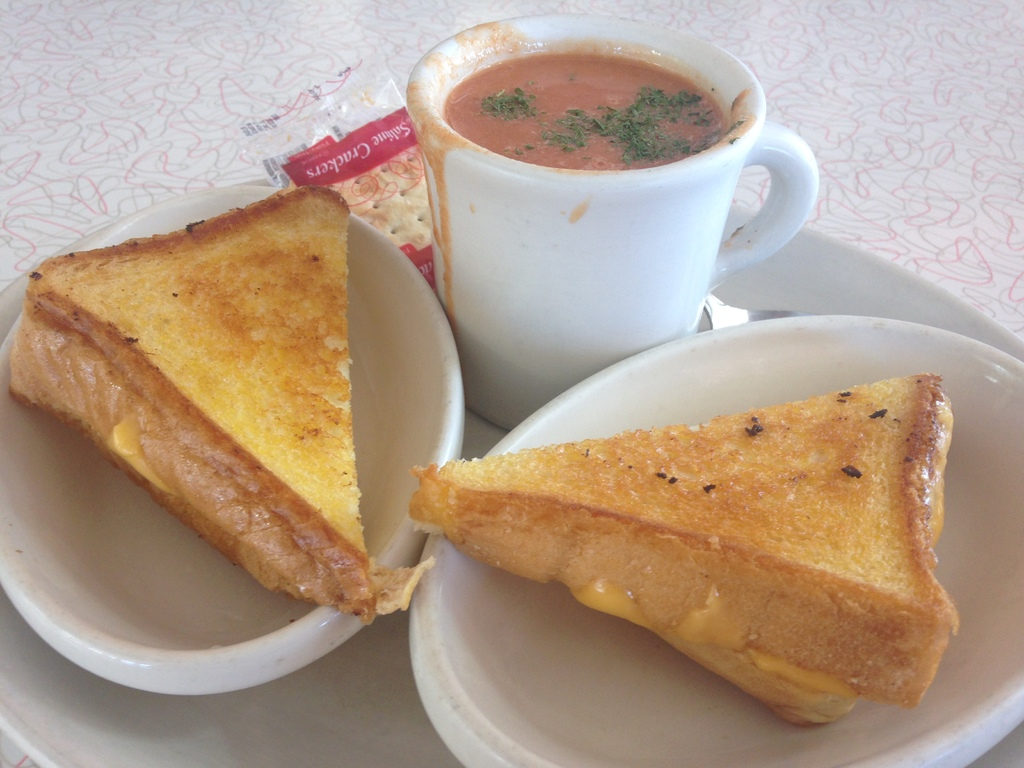sandwich: (405, 367, 964, 729), (8, 184, 434, 621)
